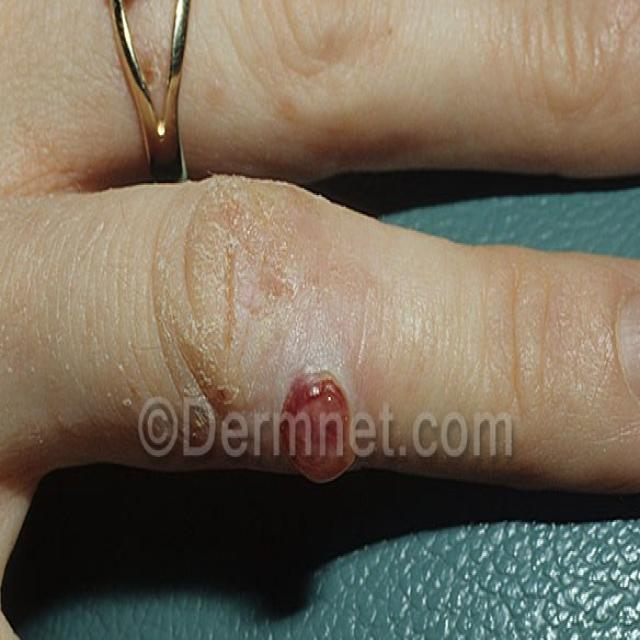Vascular Tumors: (256, 349, 387, 512)
